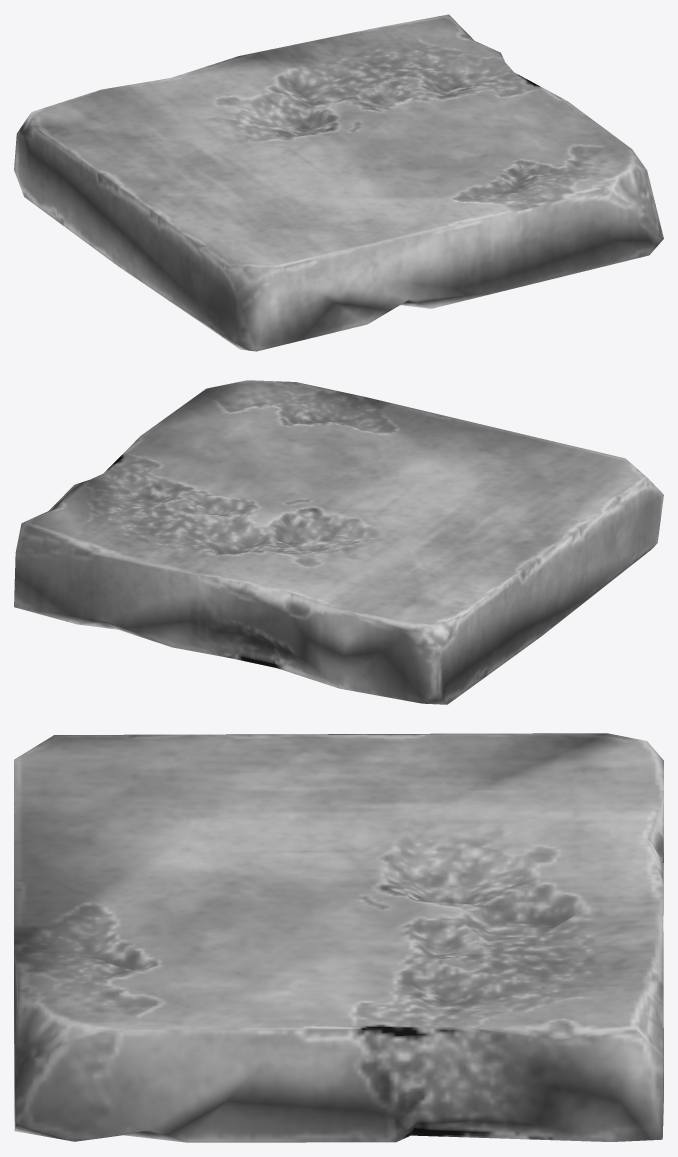
The model's file is SM_TempleTrimMid_Ledge_3.fbx.
3 renders of one model, top to bottom at view 1: azimuth 30°, elevation 25°; view 2: azimuth 150°, elevation 25°; view 3: azimuth 270°, elevation 25°, orthographic. The views are drawn at different scales.
Parts seen in each view (by area): view 1: SM_TempleTrimMid_Ledge3_LOD0; view 2: SM_TempleTrimMid_Ledge3_LOD0; view 3: SM_TempleTrimMid_Ledge3_LOD0.
Boxes of the visible parts, bbox=[...] form: SM_TempleTrimMid_Ledge3_LOD0: bbox=[14, 14, 663, 351]; SM_TempleTrimMid_Ledge3_LOD0: bbox=[14, 380, 663, 704]; SM_TempleTrimMid_Ledge3_LOD0: bbox=[14, 733, 663, 1142].
Size of what is drawn, in the model's own units: 131 by 23.23 by 121.
1 material, 1 textured.
